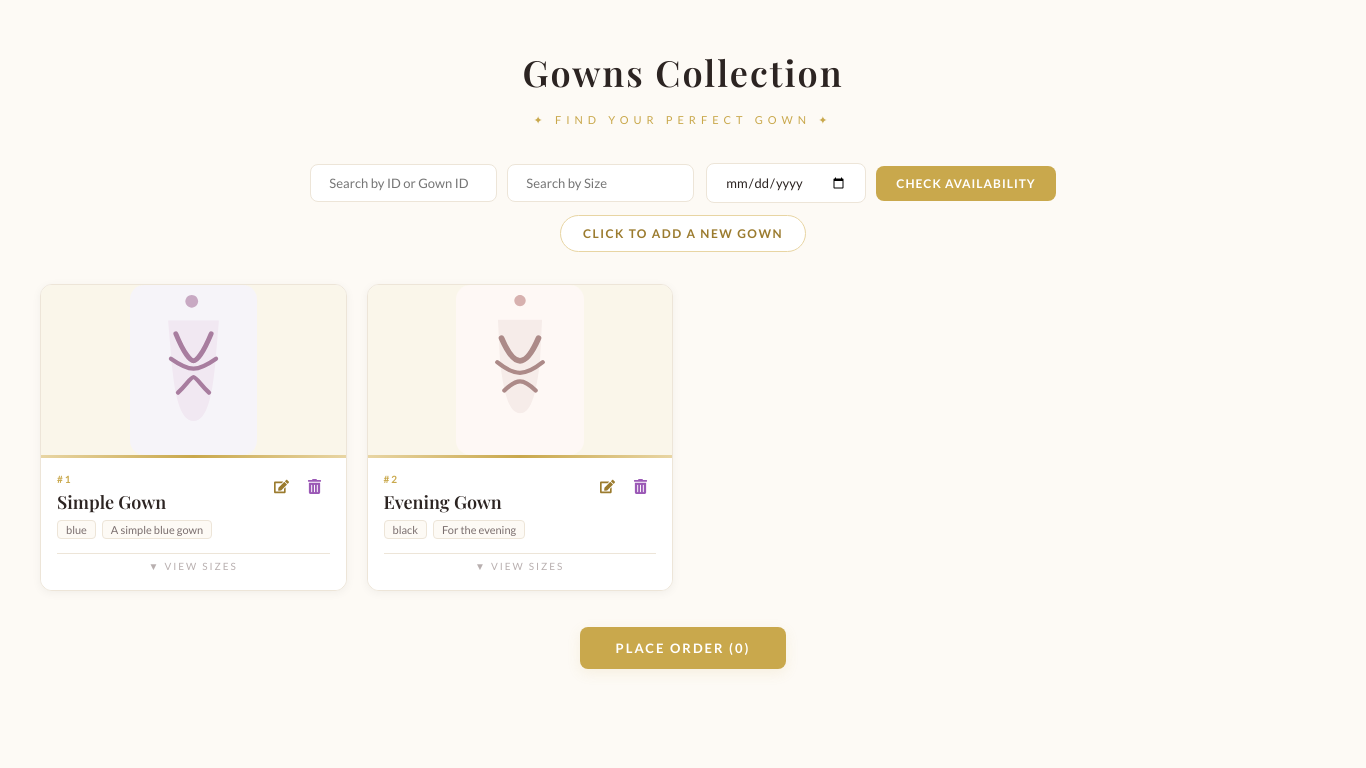
Test case: availability on a date › checking a date asks the server for that date and shows the answer
Check: the text "Simple Gown" is shown, box [57, 490, 166, 514]
Type "2027-03-05" into the date field named "Event date to check" at coordinates (786, 183), box [706, 163, 866, 203]
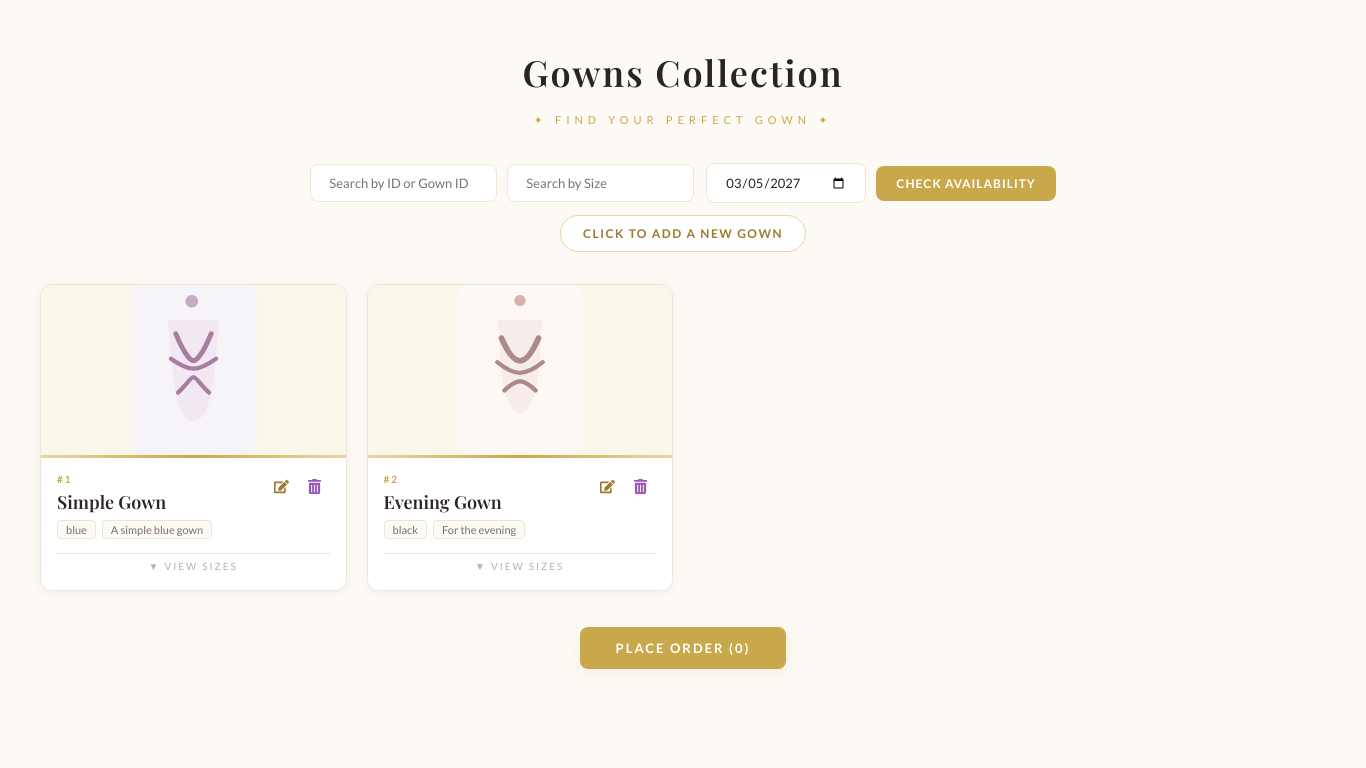
Click the button "Check Availability" at coordinates (966, 183), box [876, 166, 1056, 200]
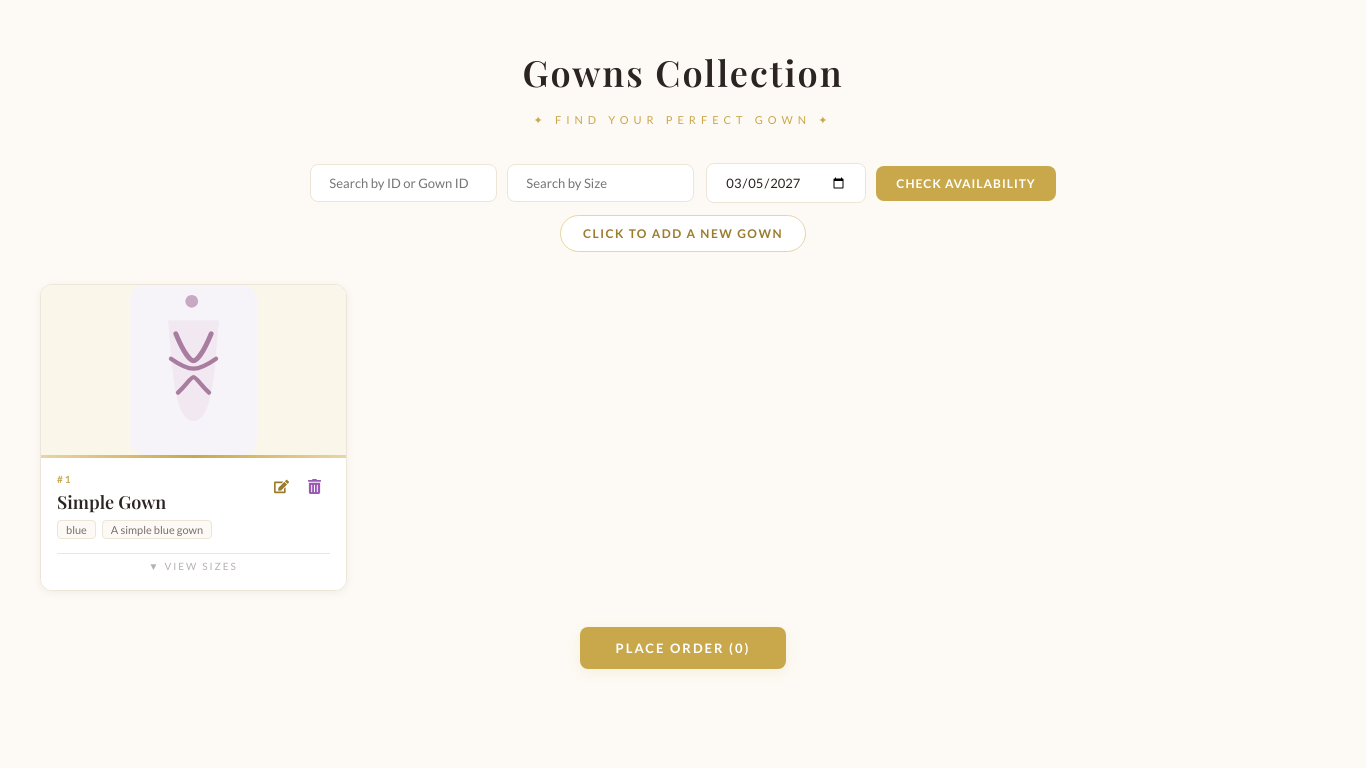
Check: the text "Evening Gown" is gone
Click the text "Simple Gown" at coordinates (112, 502), box [57, 490, 166, 514]
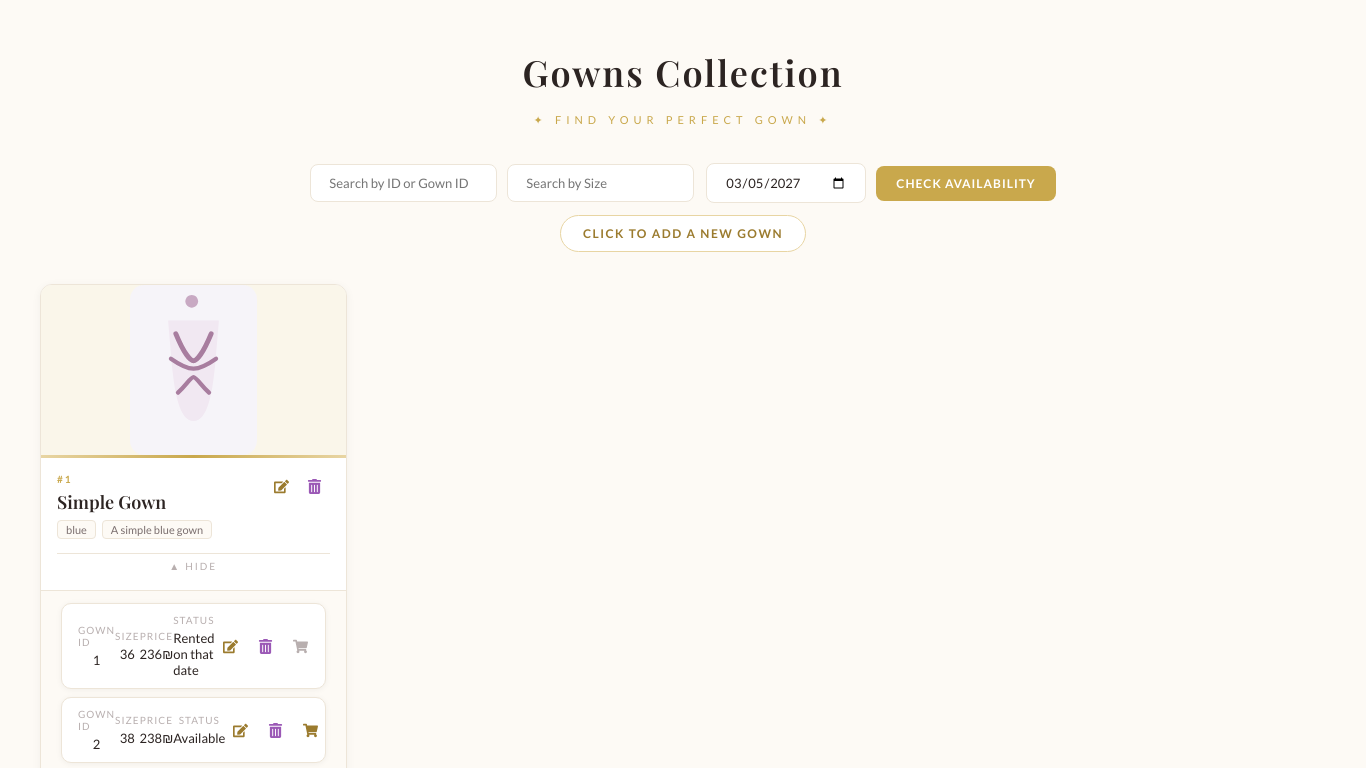
Check: the text "Rented on that date" is shown, box [173, 630, 214, 678]
Check: the button titled "Not available on that date" is disabled, box [284, 633, 316, 660]
